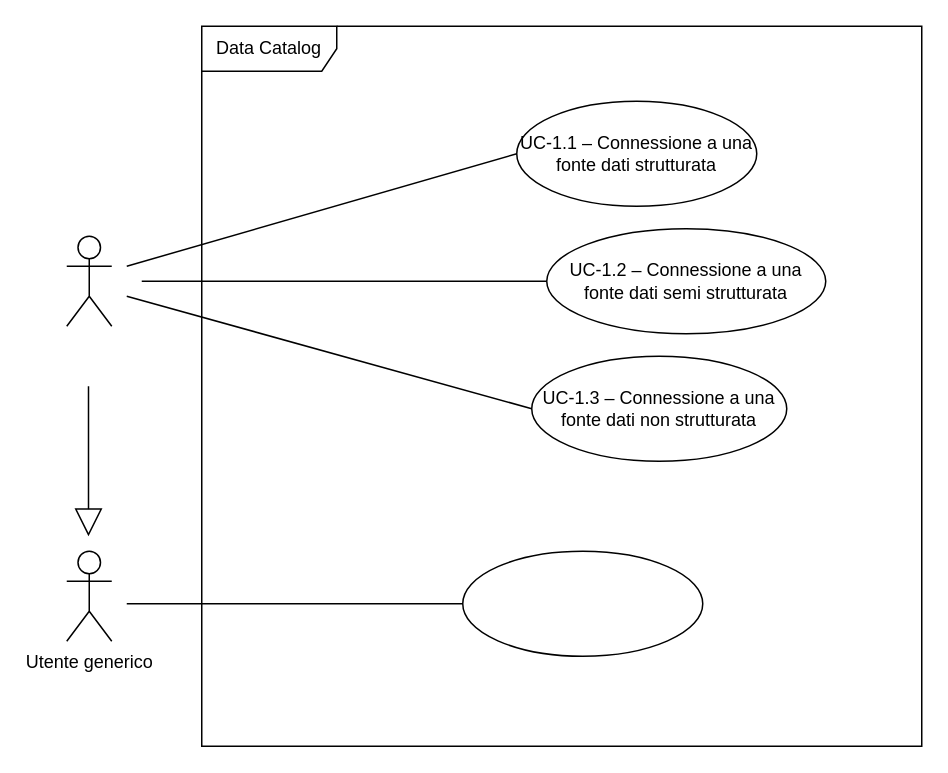
Image size: 948x773. Some labels were removed from this diagram. Each missing label, with the centre of its shape:
Amministratore di Sistema: point (88, 280)
UC-1.4 – Visualizzazione delle fonti dati collegate: point (582, 603)
